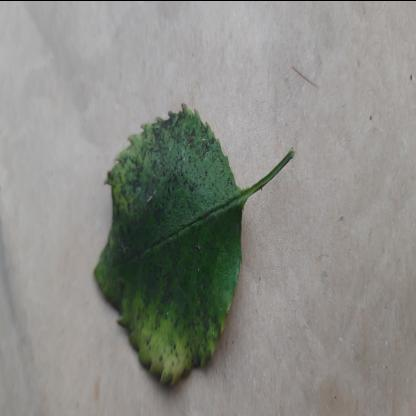black-spot: (91, 100, 242, 387)
